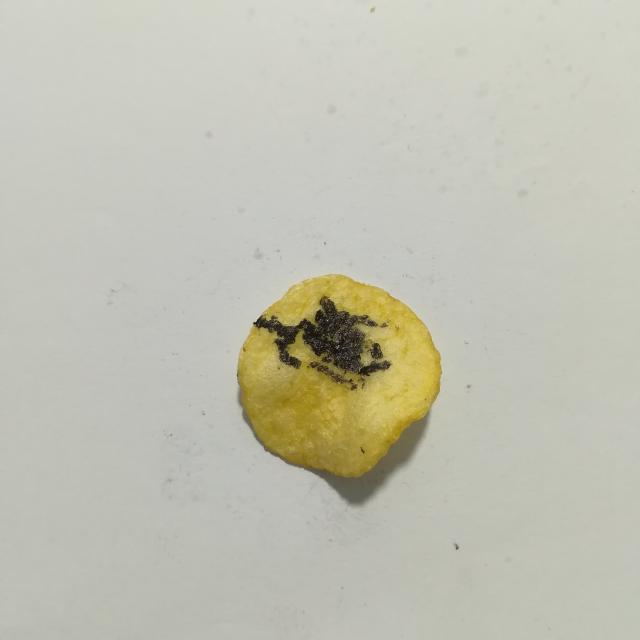chip: (238, 274, 442, 477)
damaged: (254, 296, 391, 376), (308, 361, 357, 390), (379, 323, 388, 328)
